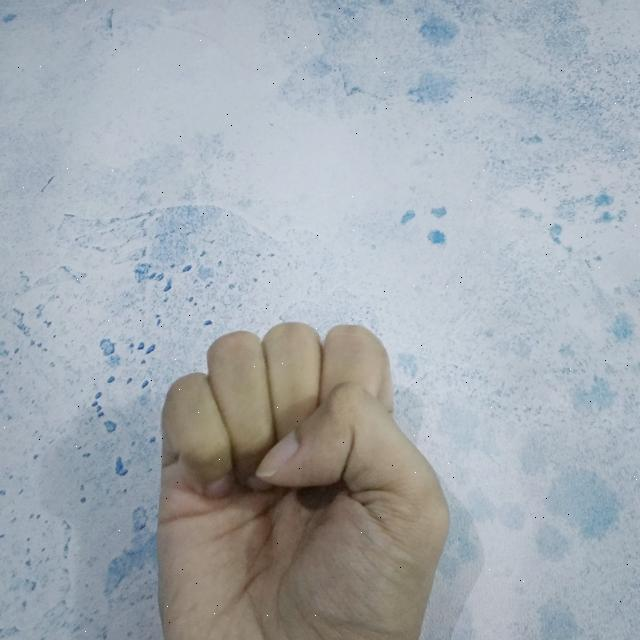S: (146, 314, 457, 640)
